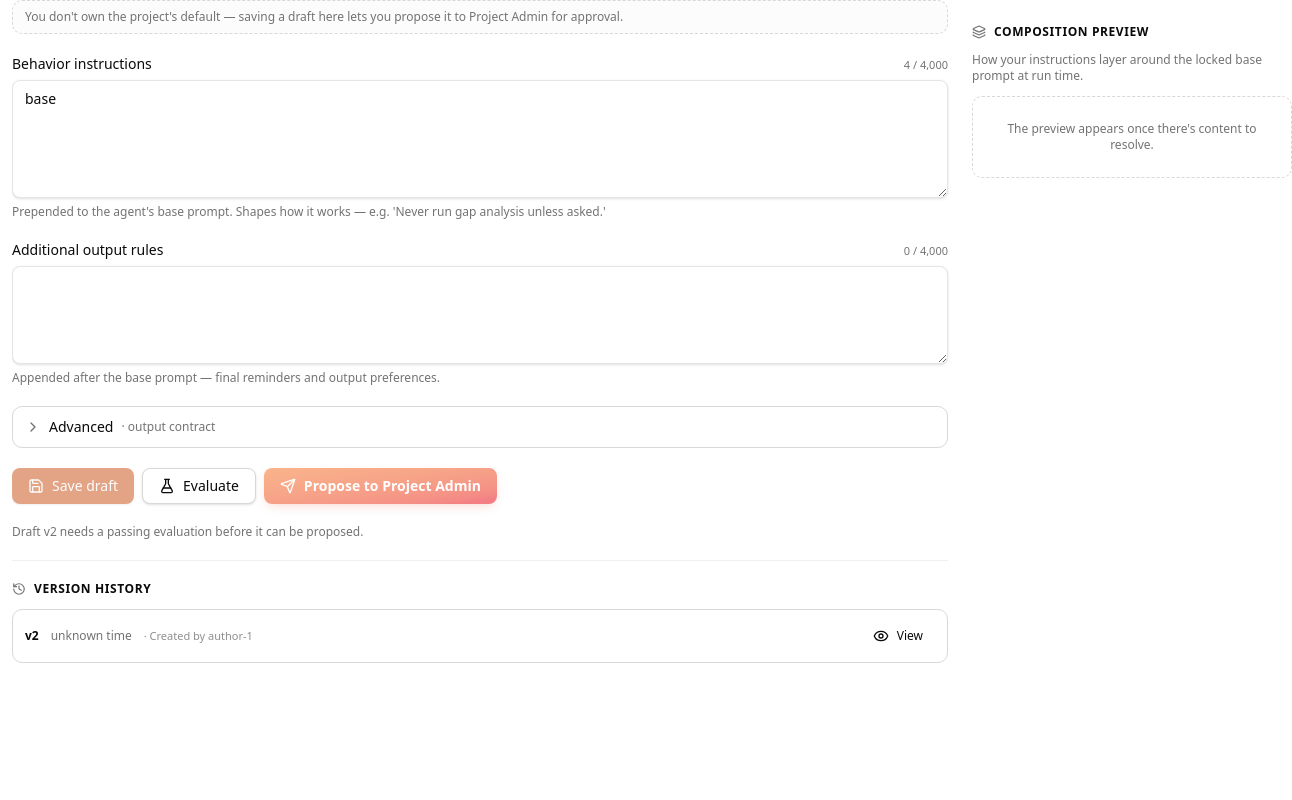
Test case: BehaviorTab evaluation-gated Propose › keeps Propose disabled when Evaluate returns fail
Click the button "Evaluate" at (199, 486), box [142,468,256,504]
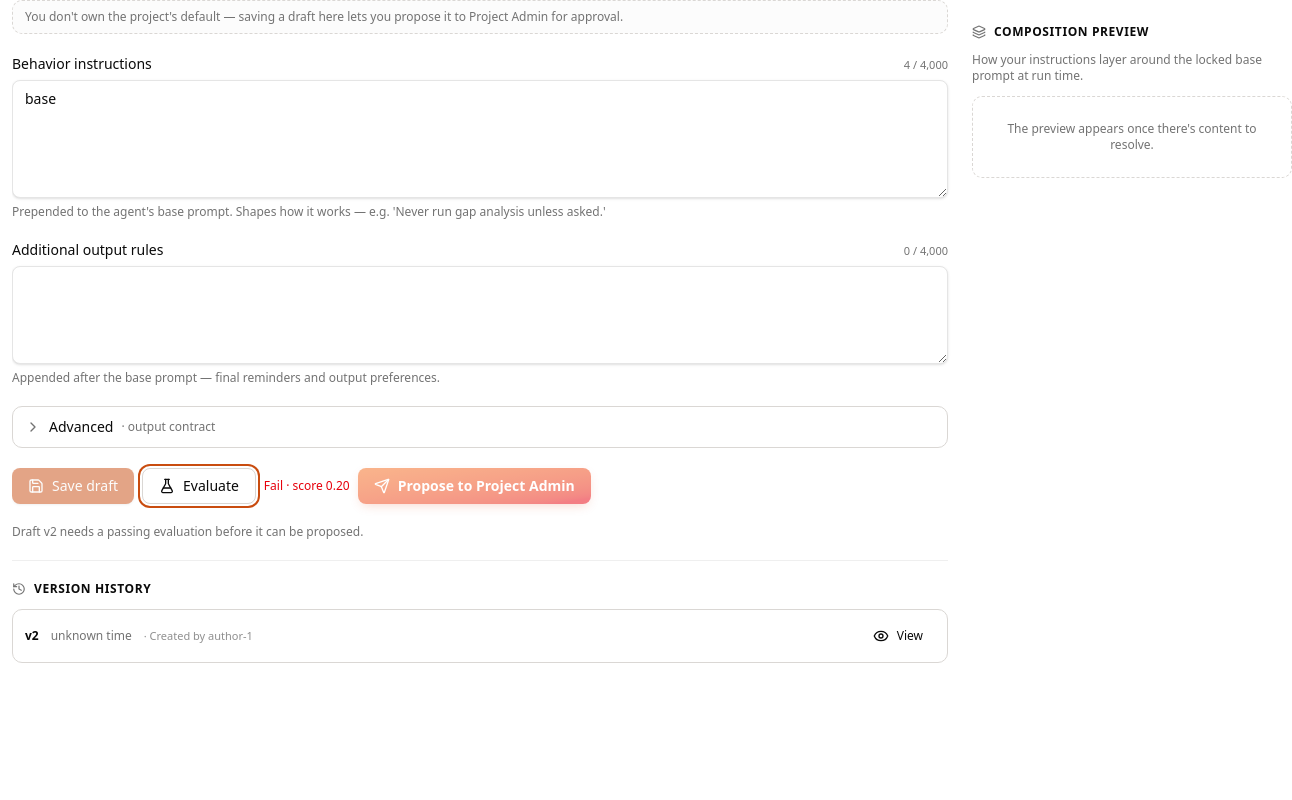
Expected: the button "Propose to Project Admin" is disabled, [358,468,591,504]
Expected: the text "Fail · score 0.20" is shown, [264,478,350,494]
